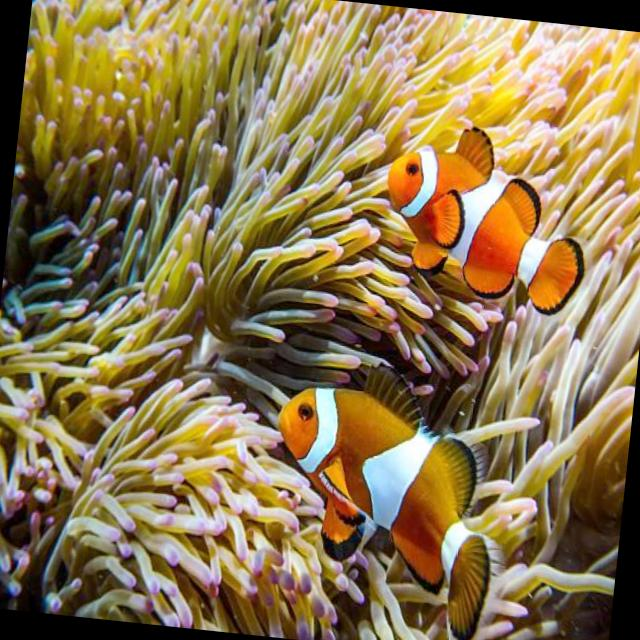ClownFish: (260, 359, 511, 640), (376, 117, 598, 323)
